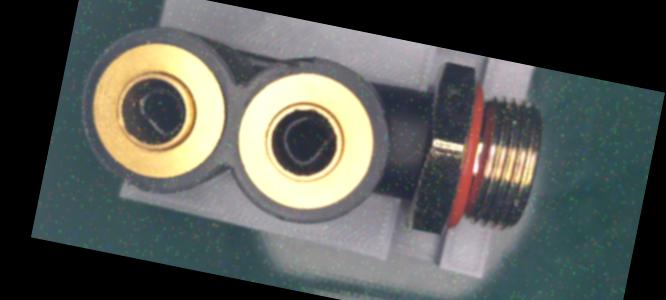bump: (275, 48, 324, 75), (105, 169, 149, 192)
joint line: (391, 140, 426, 154)
off-centered: (125, 77, 191, 141), (272, 112, 337, 169)
white mark: (396, 150, 417, 168)
